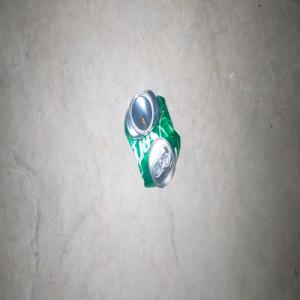SodaCan: (124, 88, 180, 187)
